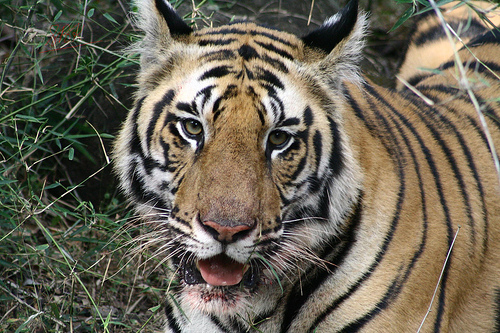Tigre: (106, 12, 382, 295)
